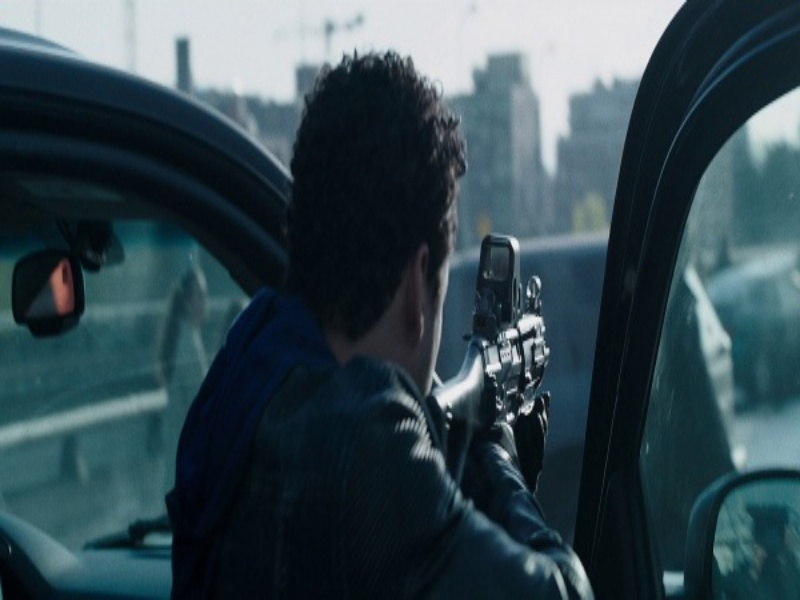person: (170, 48, 604, 596)
weapon: (432, 229, 553, 479)
